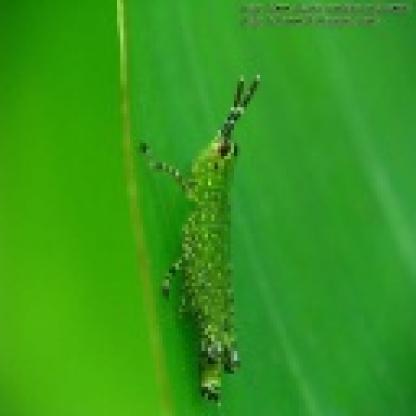grasshopper: (130, 83, 285, 401)
